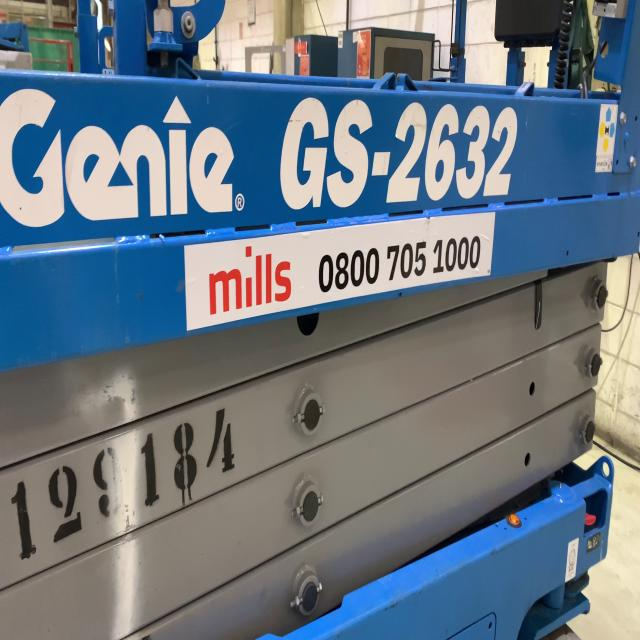Adesivo Longo: (181, 208, 497, 334)
